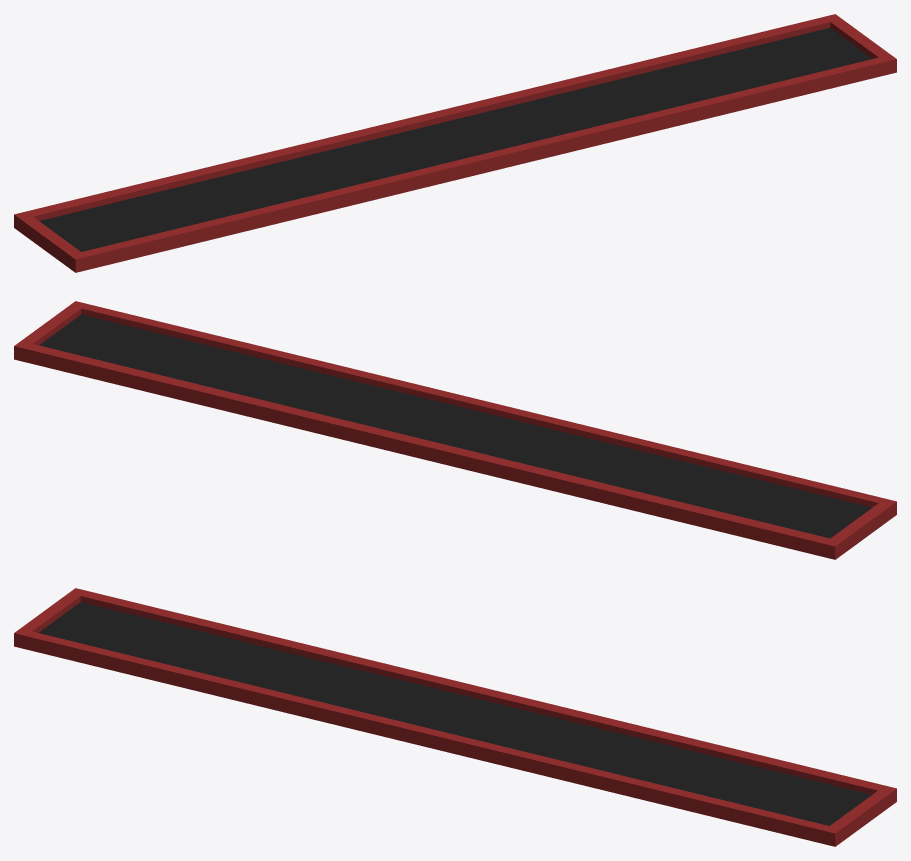
Rendered from GearPlatform.fbx.
3 renders of one model, top to bottom at view 1: azimuth 30°, elevation 25°; view 2: azimuth 150°, elevation 25°; view 3: azimuth 330°, elevation 25°, orthographic.
Visible parts, largest first — view 1: GearPlatform; view 2: GearPlatform; view 3: GearPlatform.
Part boxes in pixels (<box>): GearPlatform: <box>14,14,896,272</box>; GearPlatform: <box>14,301,896,559</box>; GearPlatform: <box>14,588,896,846</box>.
Size of the model in its own units: 56.33 by 9.76 by 434.
